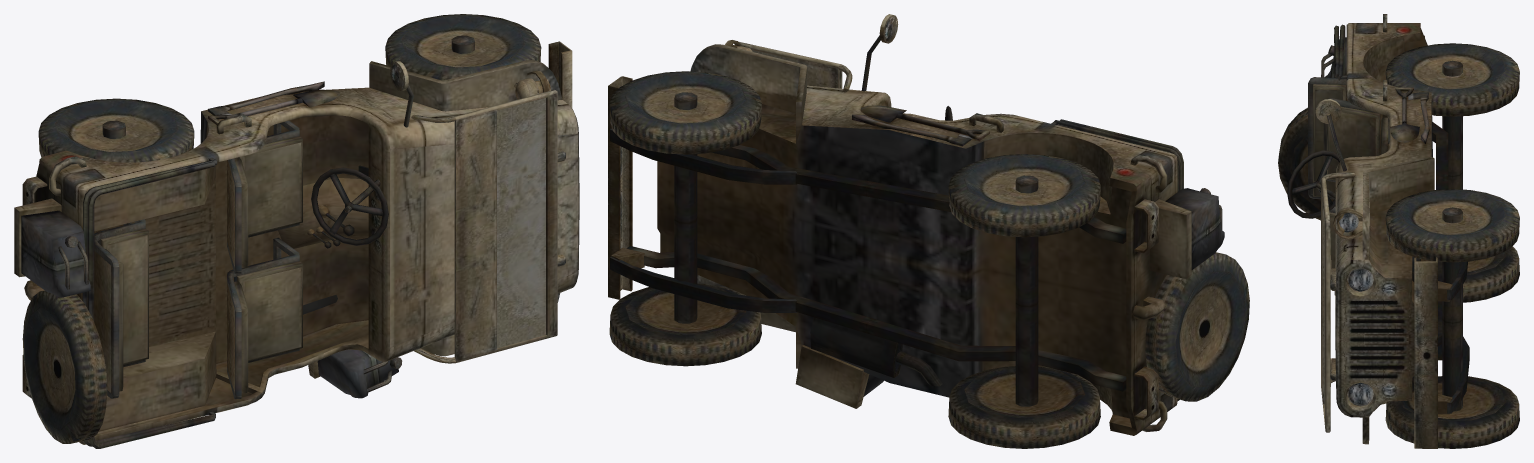
File: vehicle_africa_jeep.glb
3 renders of one model, left to right at view 1: azimuth 30°, elevation 25°; view 2: azimuth 150°, elevation 25°; view 3: azimuth 270°, elevation 25°, orthographic. The views are drawn at different scales.
Size of the model in its own units: 145 by 85.2 by 61.88.
2 materials, 2 textured.
